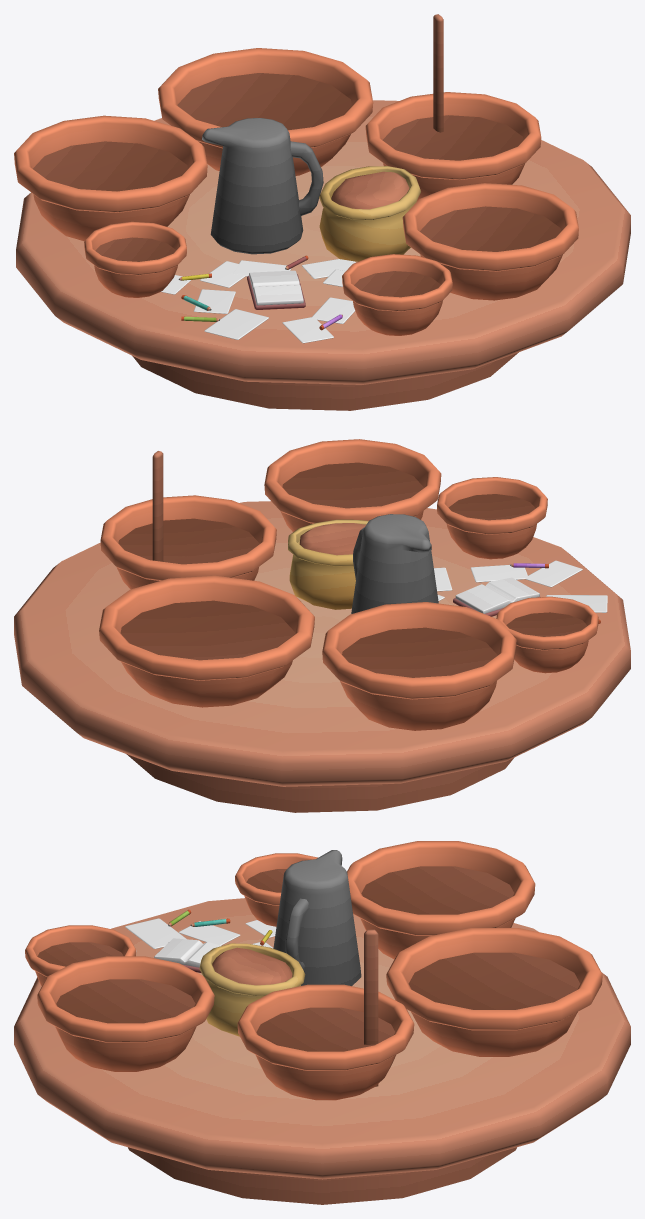
File: SM_CentralTable.fbx
3 views of the same model, one above another, from view 1: azimuth 30°, elevation 25°; view 2: azimuth 150°, elevation 25°; view 3: azimuth 270°, elevation 25° (orthographic).
Visible parts, largest first — view 1: SM_CentralTable; view 2: SM_CentralTable; view 3: SM_CentralTable.
Part boxes in pixels (bbox=[...]): SM_CentralTable: bbox=[14, 14, 630, 410]; SM_CentralTable: bbox=[14, 439, 630, 812]; SM_CentralTable: bbox=[14, 841, 630, 1204].
Bounding box in the file's own units: 437 × 198 × 437.
Materials: 1 (1 with a texture image).
